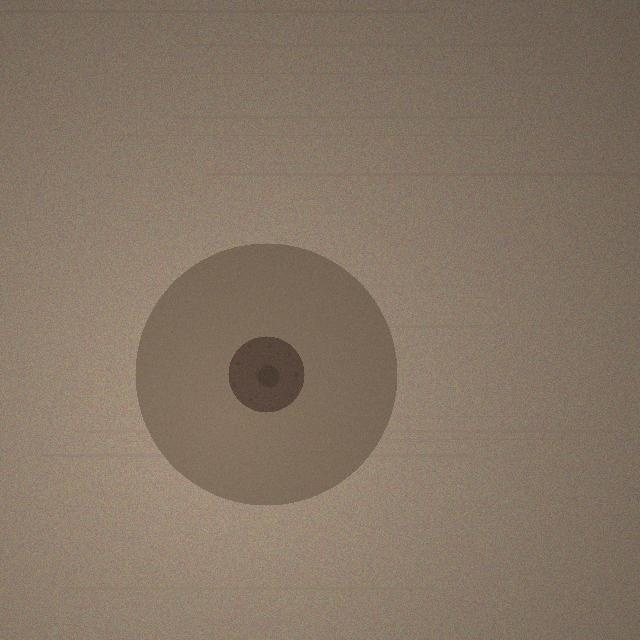cold_weld: (135, 243, 397, 505)
